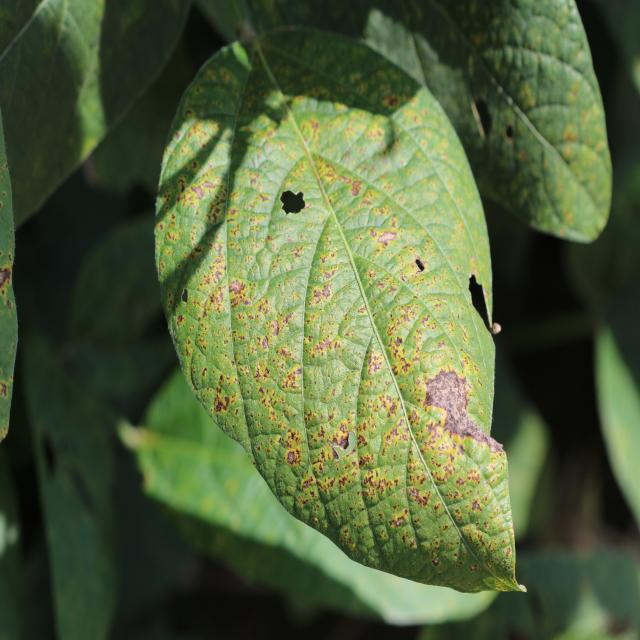Bacterial_Blight: (416, 362, 498, 453), (227, 180, 279, 261), (168, 166, 221, 239), (256, 305, 294, 348), (360, 466, 398, 504), (379, 419, 411, 460), (197, 258, 226, 299), (280, 426, 307, 466), (327, 429, 356, 460), (204, 282, 228, 317), (279, 188, 306, 216), (228, 282, 254, 311), (366, 347, 385, 376), (282, 365, 303, 390), (389, 505, 410, 529), (410, 487, 432, 509), (311, 284, 332, 306), (339, 526, 356, 549), (253, 360, 270, 382), (316, 335, 334, 354), (376, 230, 397, 246), (0, 265, 12, 291), (363, 470, 379, 489), (214, 394, 229, 414), (286, 429, 301, 448), (229, 279, 246, 295), (190, 185, 204, 200), (302, 476, 315, 490), (471, 499, 482, 512), (181, 287, 189, 304), (0, 382, 8, 397), (432, 557, 440, 567), (469, 564, 478, 572), (219, 374, 224, 384)
Soybean: (156, 28, 525, 592)
